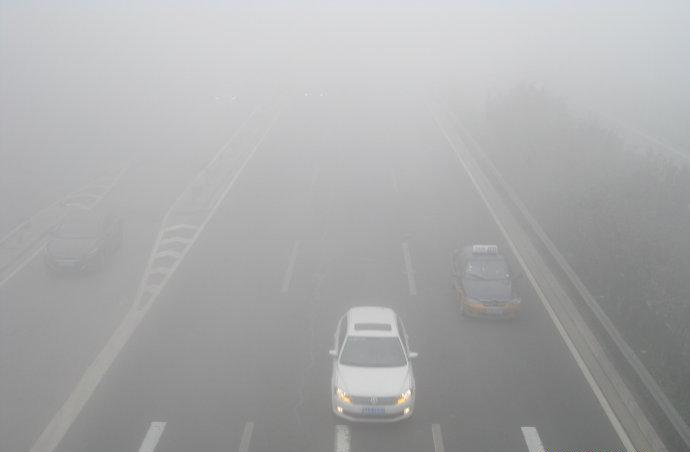car: (328, 304, 419, 426), (449, 244, 525, 320), (43, 209, 124, 275), (213, 89, 238, 105), (304, 85, 327, 100)
